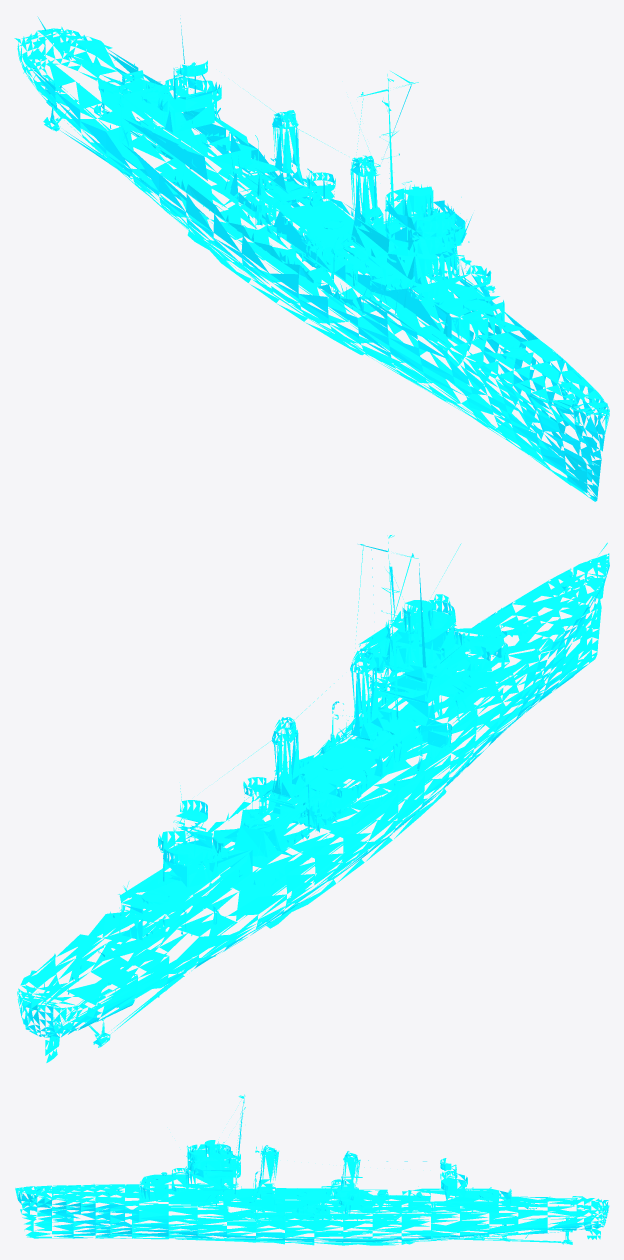
File: Benson.glb
The picture shows the model from 3 angles, top to bottom: view 1: azimuth 30°, elevation 25°; view 2: azimuth 150°, elevation 25°; view 3: azimuth 270°, elevation 25°; orthographic projection. The views are drawn at different scales.
Bounding box in the file's own units: 0.7282 × 1.94 × 7.08.
